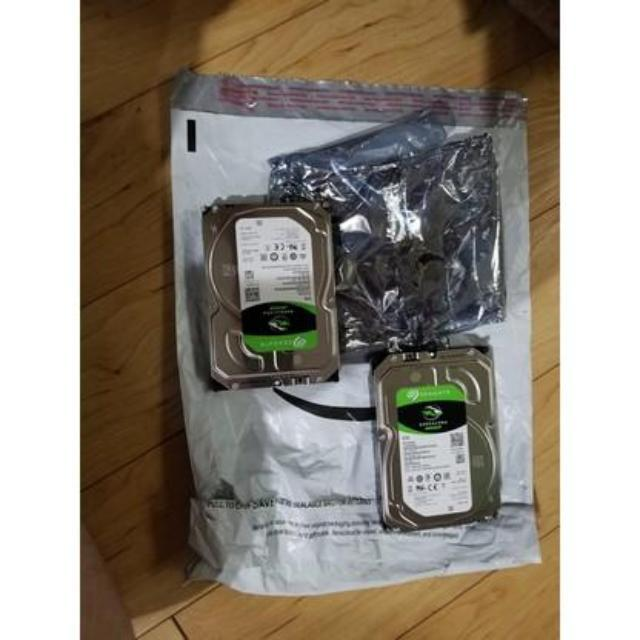DISK: (207, 206, 335, 382), (374, 349, 497, 529)
